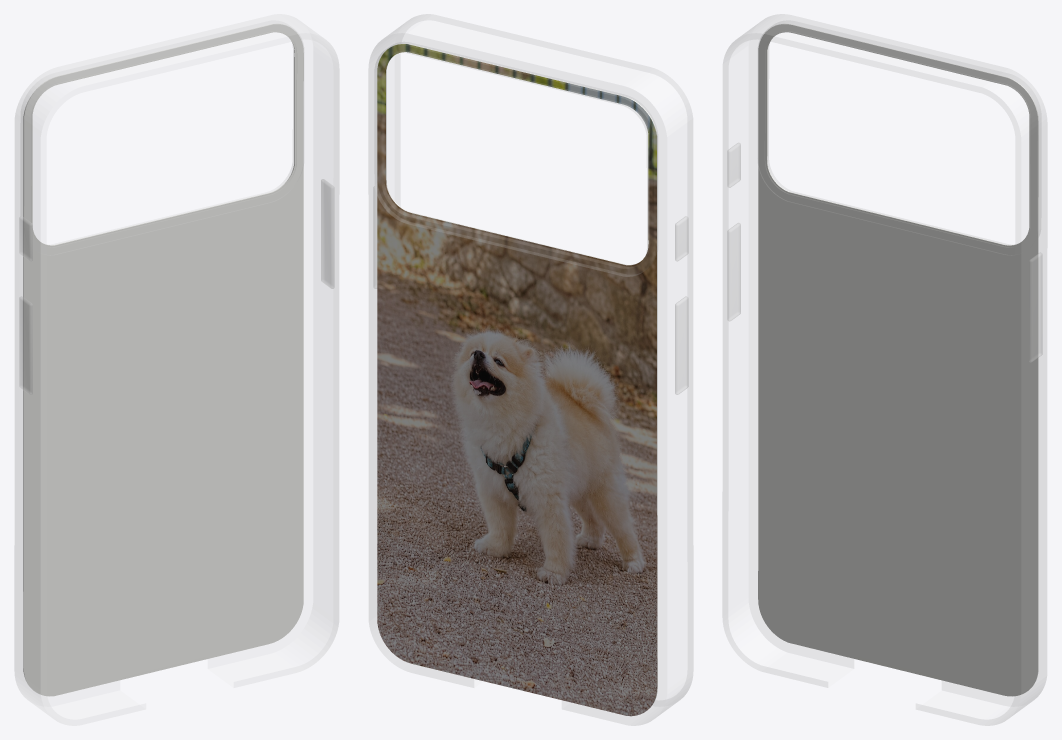
File: iphone-17-pro-max-hero.glb
The picture shows the model from 3 angles, left to right: view 1: azimuth 30°, elevation 25°; view 2: azimuth 150°, elevation 25°; view 3: azimuth 330°, elevation 25°; orthographic projection.
Visible parts, largest first — view 1: case_clear_shell, vinyl_back, case_camera_guard, case_power_button, case_volume_button, case_action_button; view 2: vinyl_back, case_clear_shell, case_camera_guard, case_volume_button, case_action_button; view 3: case_clear_shell, vinyl_back, case_camera_guard, case_power_button, case_volume_button, case_action_button.
Part boxes in pixels (x1,y1,x2,y2): case_clear_shell: (14, 14, 339, 725); vinyl_back: (23, 23, 303, 696); case_camera_guard: (21, 21, 303, 255); case_power_button: (321, 179, 334, 288); case_volume_button: (19, 296, 32, 394); case_action_button: (19, 216, 32, 261); vinyl_back: (377, 43, 657, 716); case_clear_shell: (368, 14, 693, 725); case_camera_guard: (374, 42, 657, 276); case_volume_button: (675, 296, 688, 394); case_action_button: (675, 216, 688, 261); case_clear_shell: (722, 14, 1047, 725); vinyl_back: (758, 23, 1038, 696); case_camera_guard: (758, 21, 1040, 255); case_power_button: (1029, 252, 1042, 362); case_volume_button: (727, 223, 740, 321); case_action_button: (727, 143, 740, 187).
Bounding box in the file's own units: 0.0838 × 0.1674 × 0.0142.
Materials: 4 (1 with a texture image).
